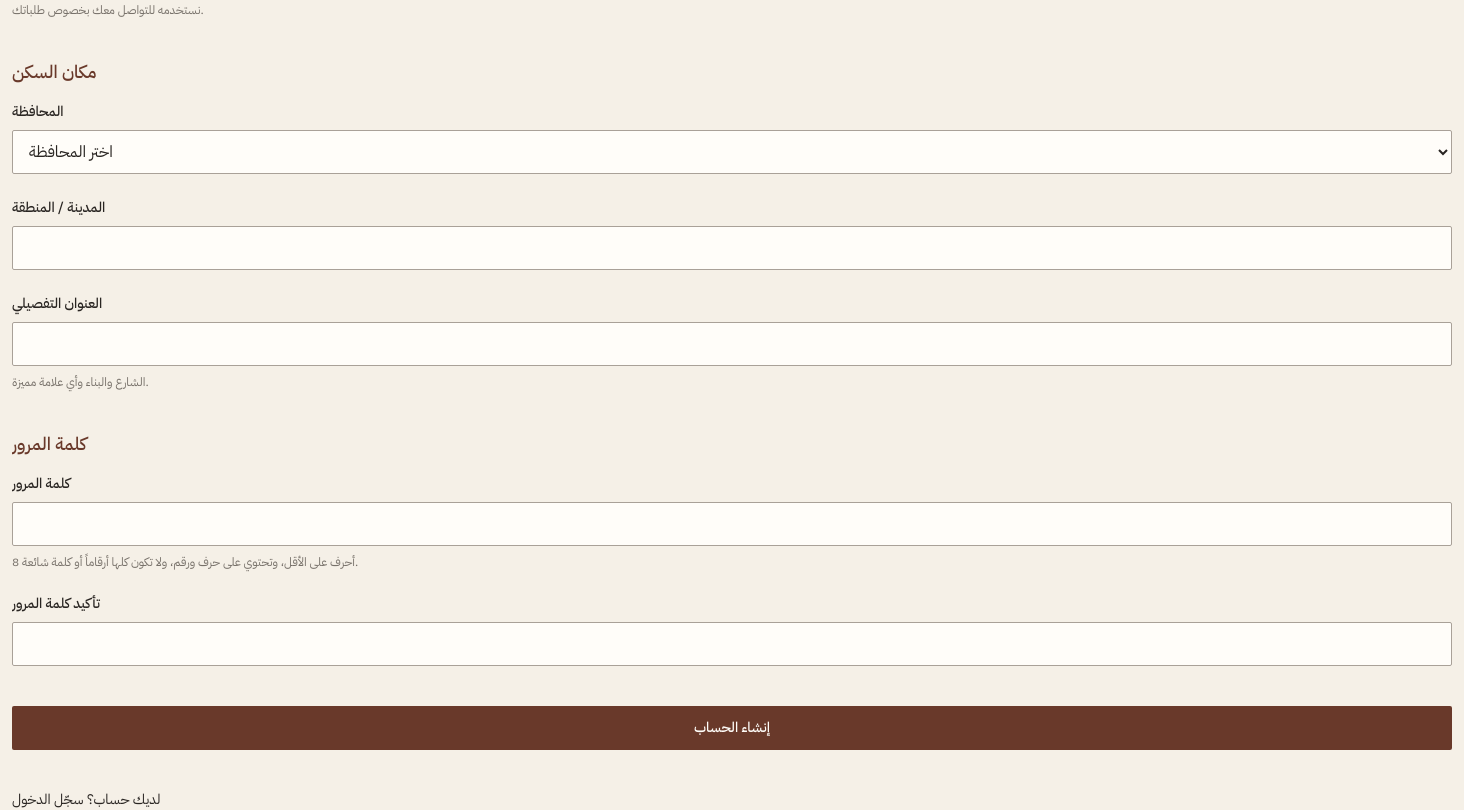
it: RegisterForm › enforces required fields and password rules on the client
The image size is (1464, 810).
(page scrolled)
In the password field labelled "كلمة المرور": (732, 524) [12, 502, 1452, 546], type "abcdefgh"
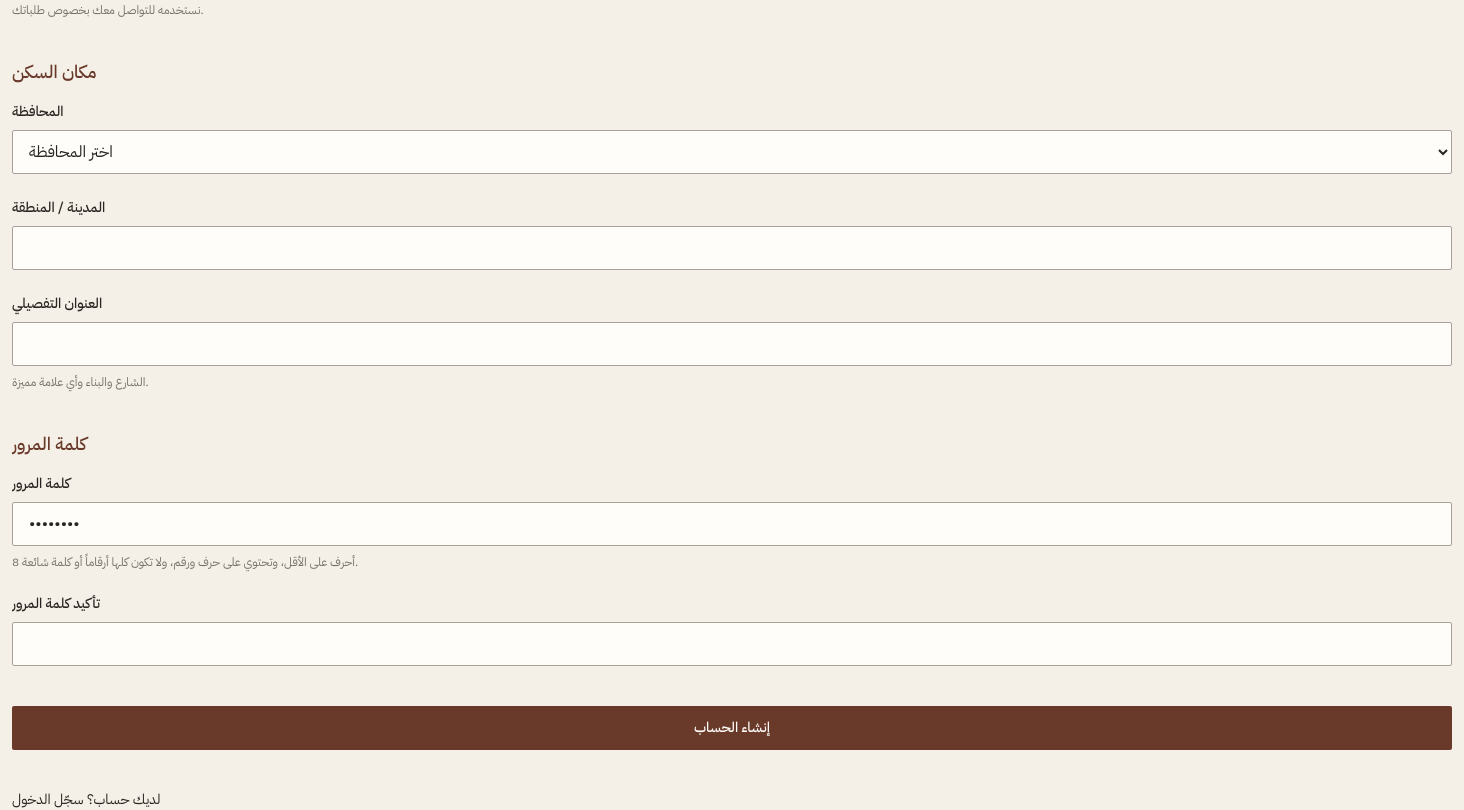
In the password field labelled "تأكيد كلمة المرور": (732, 644) [12, 622, 1452, 666], type "different1"
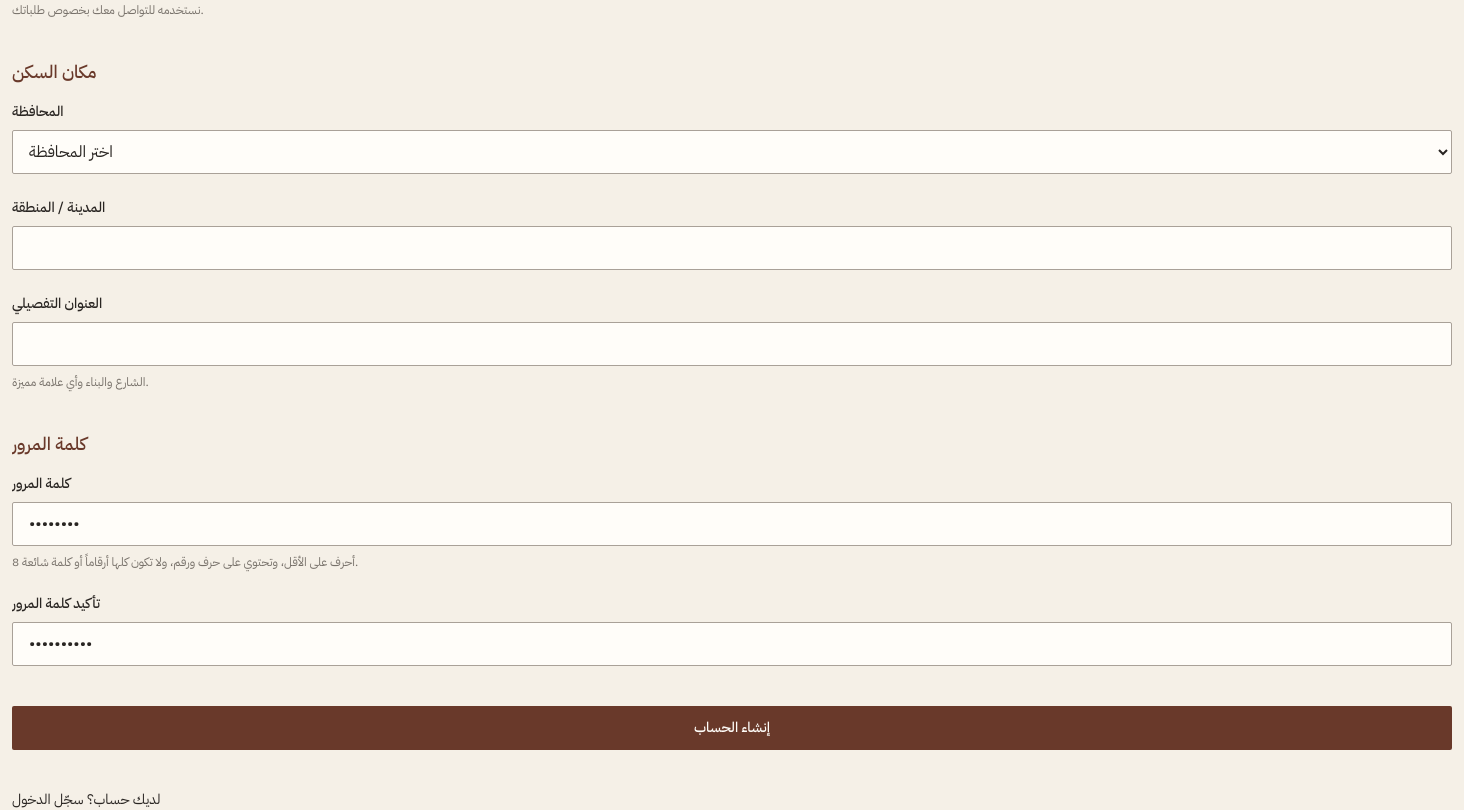
Click the button "إنشاء الحساب": (732, 728) [12, 706, 1452, 750]
(page scrolled)
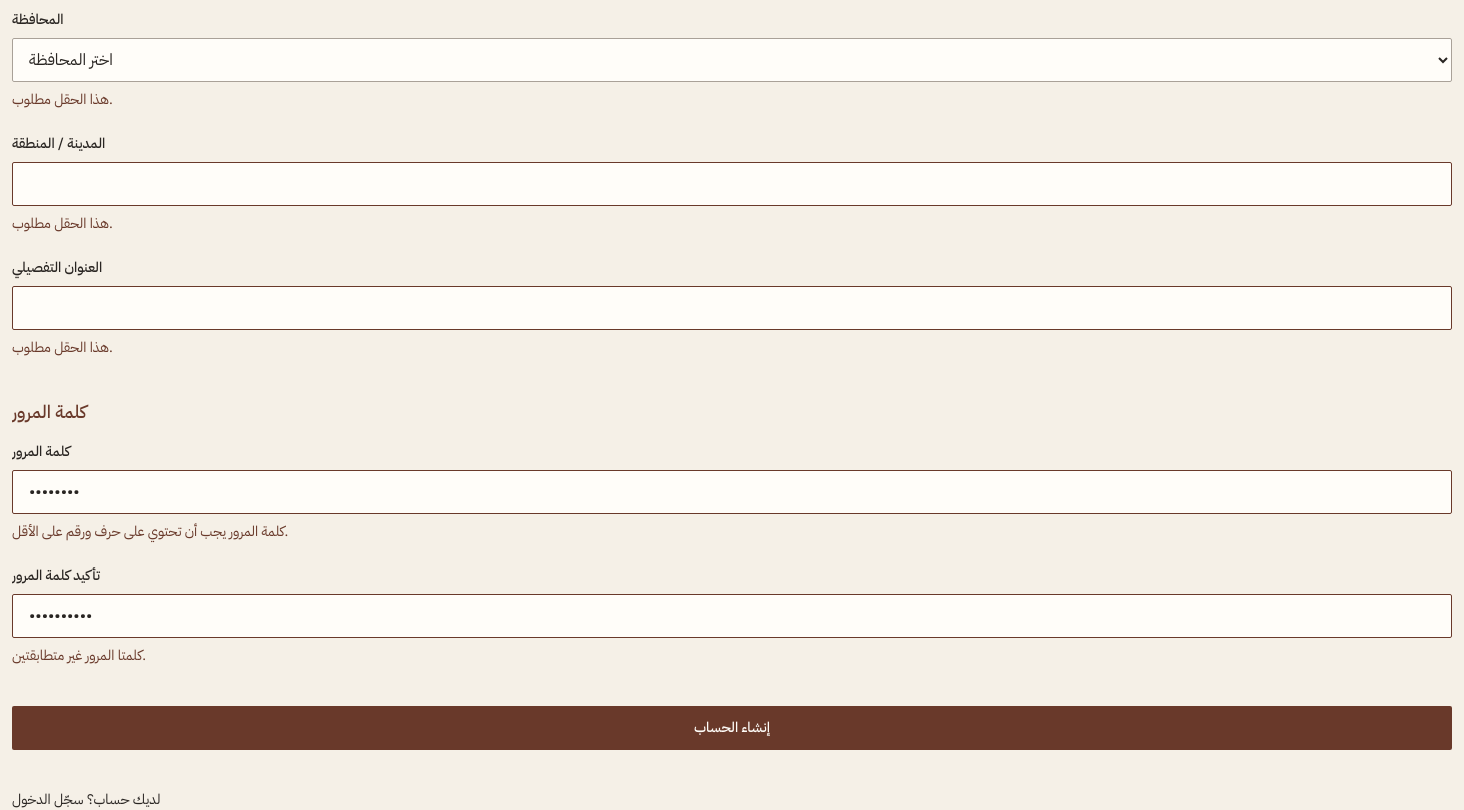
Result: the text "كلمة المرور يجب أن تحتوي على حرف ورقم على الأقل." is shown at [12, 521, 288, 542]
Result: the text "كلمتا المرور غير متطابقتين." is shown at [12, 645, 146, 666]
